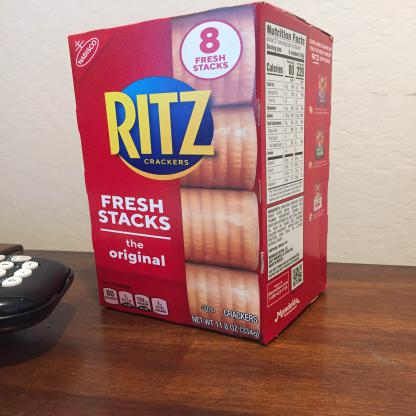RitzBox: (64, 26, 344, 331)
